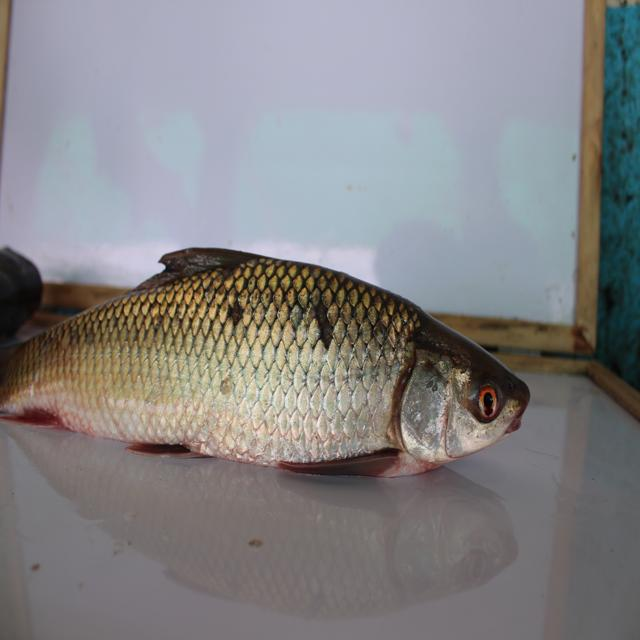Mori: (8, 233, 535, 514)
